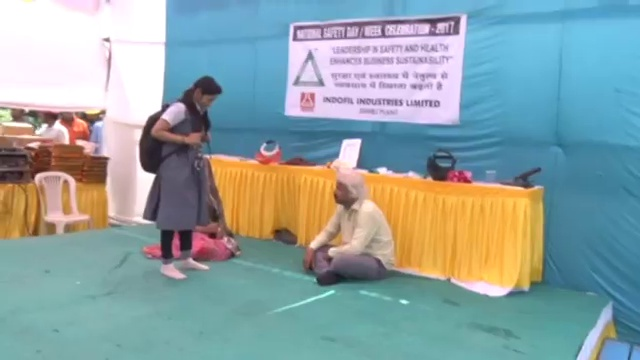helmet_off: (331, 172, 362, 210), (189, 76, 222, 109)
person: (135, 73, 222, 278), (302, 172, 397, 285), (177, 157, 239, 264), (60, 109, 89, 149), (38, 110, 69, 147)
